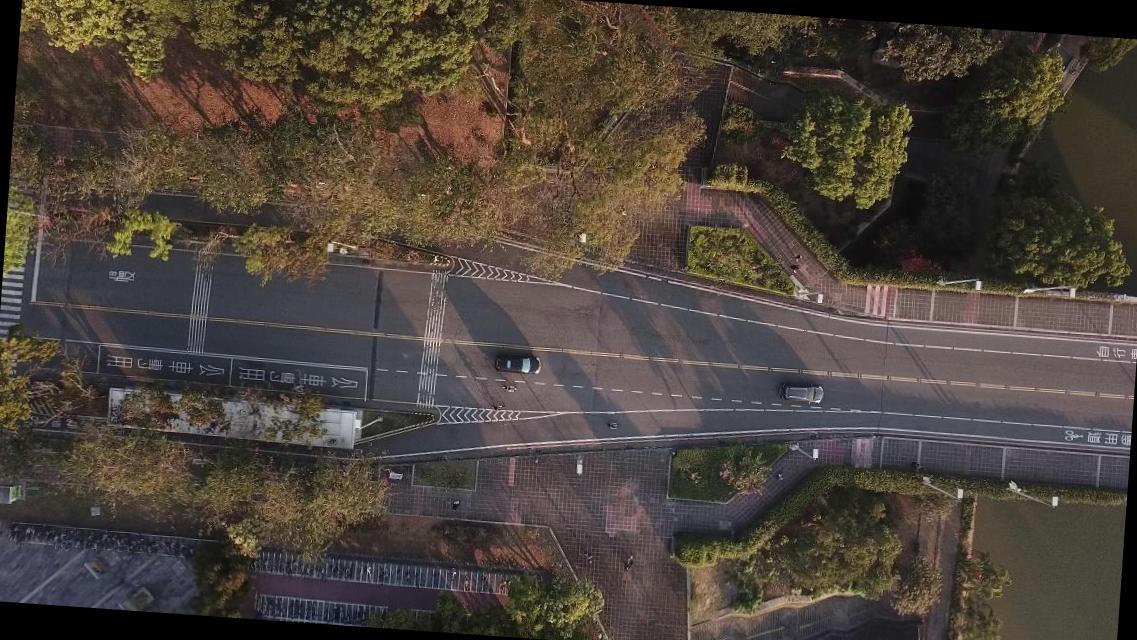vehicle: (776, 382, 823, 405), (494, 352, 540, 375)
